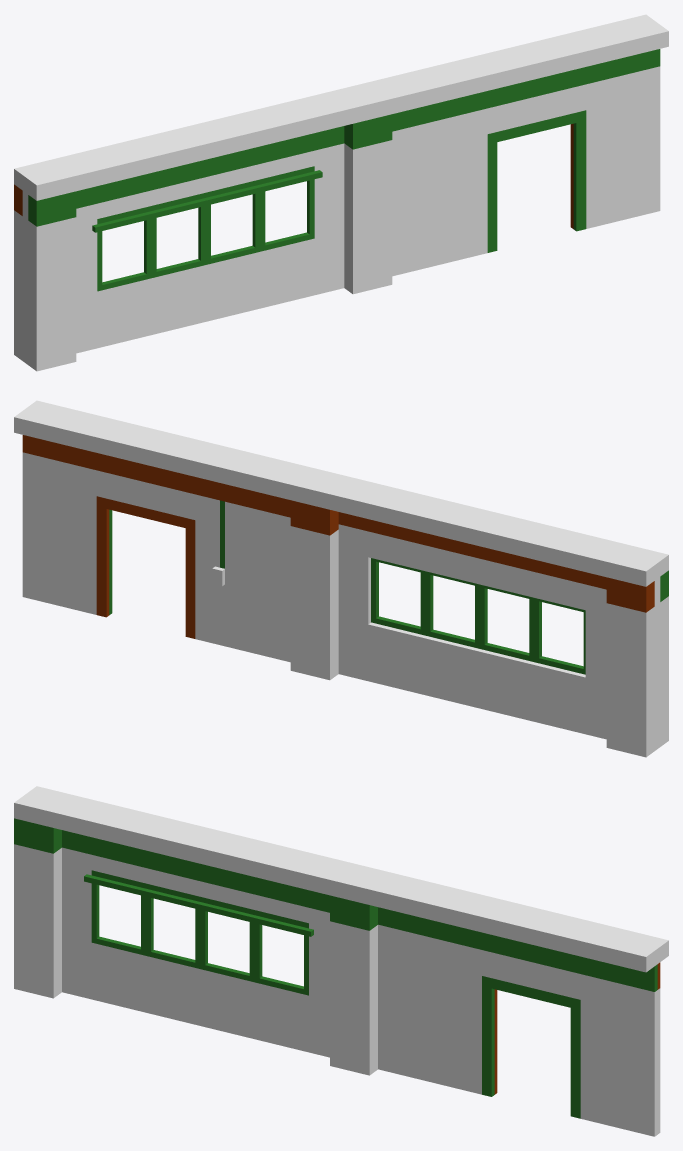
The model's file is penghubung_corridor_toilet_lantai_3.obj.
3 views of the same model, one above another, from view 1: azimuth 30°, elevation 25°; view 2: azimuth 150°, elevation 25°; view 3: azimuth 330°, elevation 25° (orthographic).
Bounding box in the file's own units: 12.8 × 3.6 × 0.8.
Materials: 1 (1 with a texture image).
